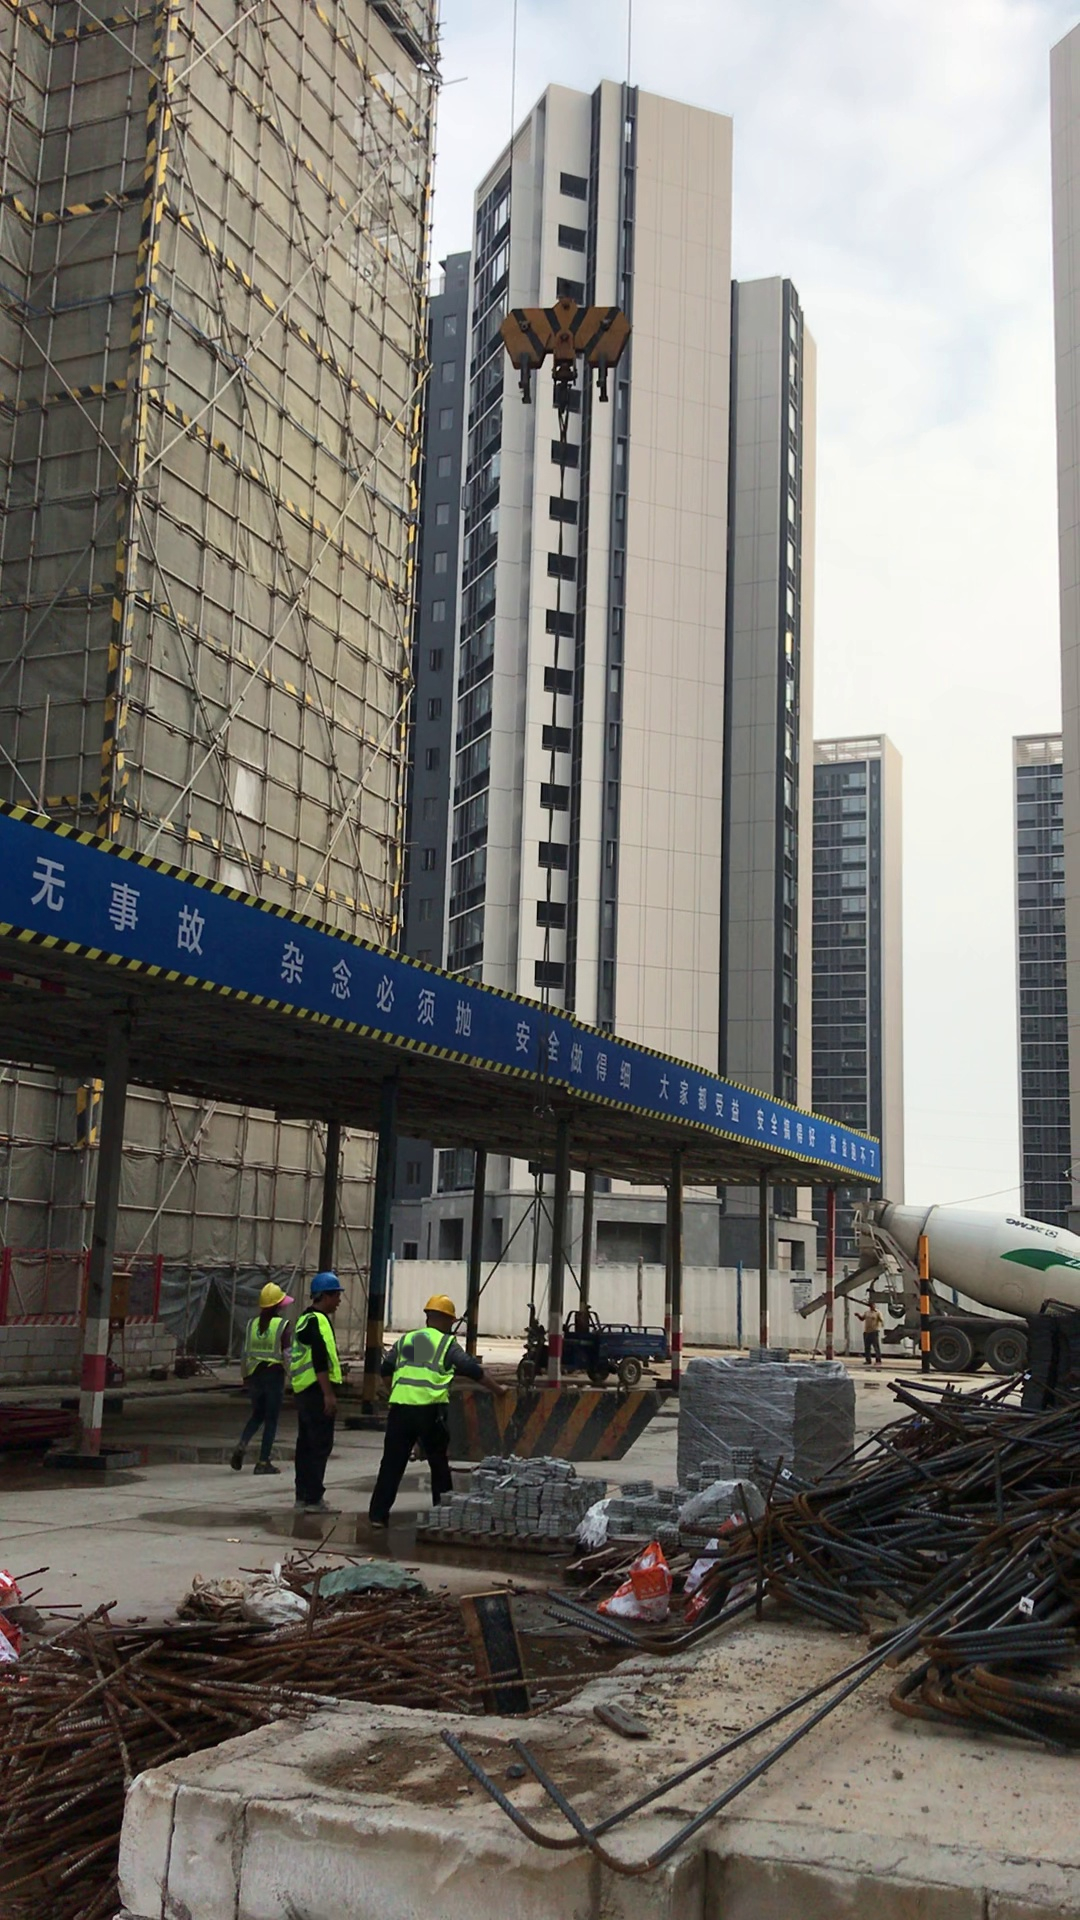ebox: (109, 1270, 139, 1377)
fence: (1, 1253, 166, 1327)
helmet: (423, 1290, 458, 1320), (307, 1269, 347, 1294), (259, 1281, 287, 1306)
hook: (495, 290, 645, 405)
hopper: (434, 1373, 677, 1472)
person: (373, 1288, 502, 1523), (286, 1266, 368, 1508), (229, 1275, 298, 1477), (858, 1298, 889, 1362)
slogan: (16, 809, 878, 1176)
vest: (387, 1324, 453, 1406), (297, 1316, 346, 1391), (242, 1317, 287, 1371)
